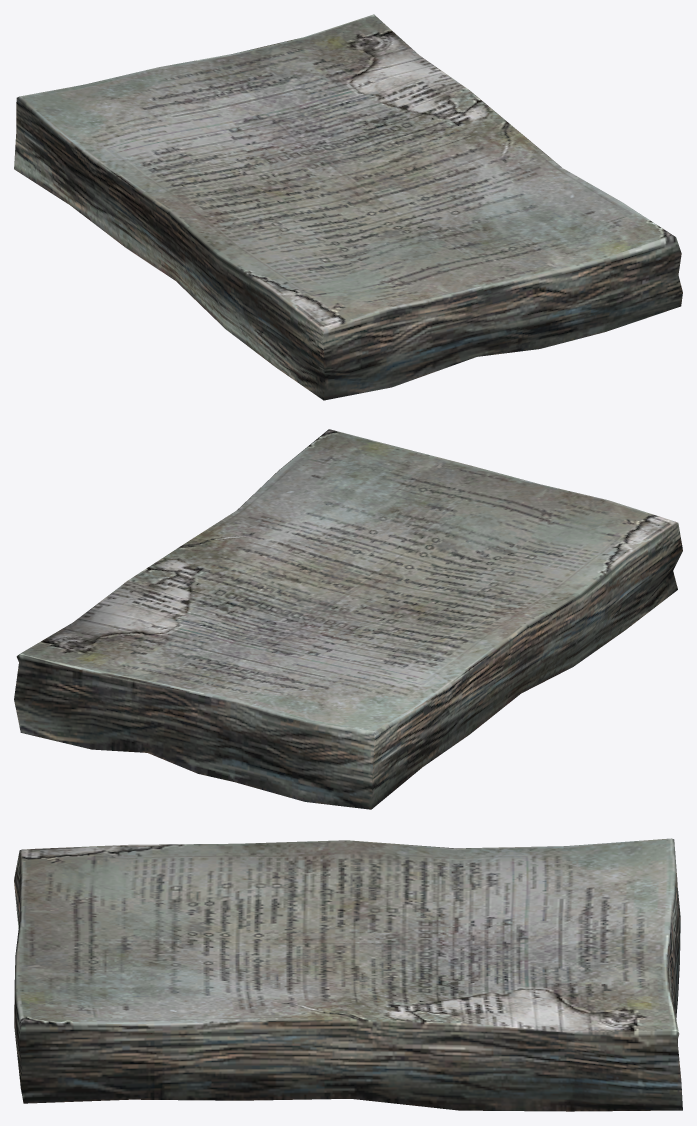
Rendered from paper03.FBX.
3 views of the same model, one above another, from view 1: azimuth 30°, elevation 25°; view 2: azimuth 150°, elevation 25°; view 3: azimuth 270°, elevation 25° (orthographic). The views are drawn at different scales.
Visible parts, largest first — view 1: SM_Paper03; view 2: SM_Paper03; view 3: SM_Paper03.
Boxes of the visible parts, x1,y1,x2,y2 form: SM_Paper03: (14, 14, 682, 400); SM_Paper03: (14, 429, 682, 809); SM_Paper03: (14, 838, 682, 1111).
Bounding box in the file's own units: 21.17 × 4.97 × 31.41.
Materials: 1 (1 with a texture image).
